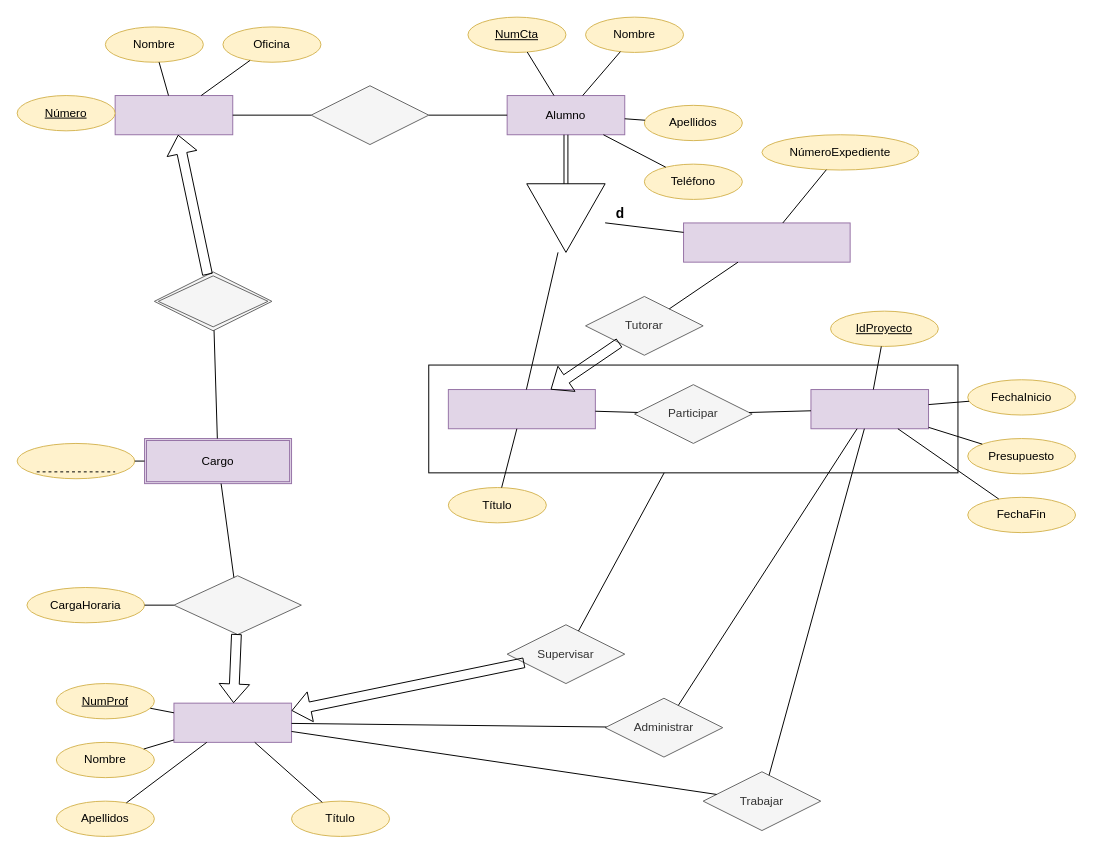
This 1093x854 diagram has some shape labels left out. Each missing label, with the box of its shape:
Adscribir: (153, 271, 272, 331)
AlumnoGraduado: (447, 389, 595, 429)
AlumnoNoGraduado: (683, 222, 850, 262)
Departamento: (114, 95, 233, 135)
Estudiar: (310, 85, 429, 145)
NombreCargo: (16, 442, 135, 479)
Ocupar: (173, 575, 301, 635)
Profesor: (173, 702, 292, 742)
Proyecto: (810, 389, 929, 429)
